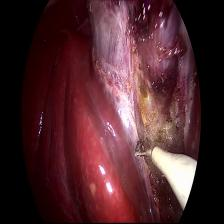Hook: (132, 140, 198, 211)
